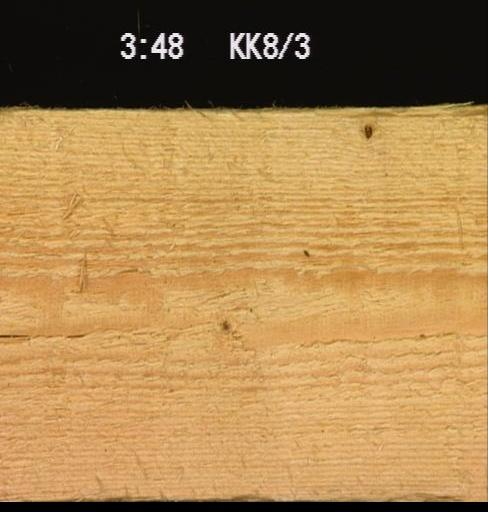dry_knot: (359, 118, 373, 140)
small_knot: (215, 313, 234, 334)
split: (0, 325, 94, 340)
wave: (185, 101, 486, 111), (207, 490, 468, 500)
